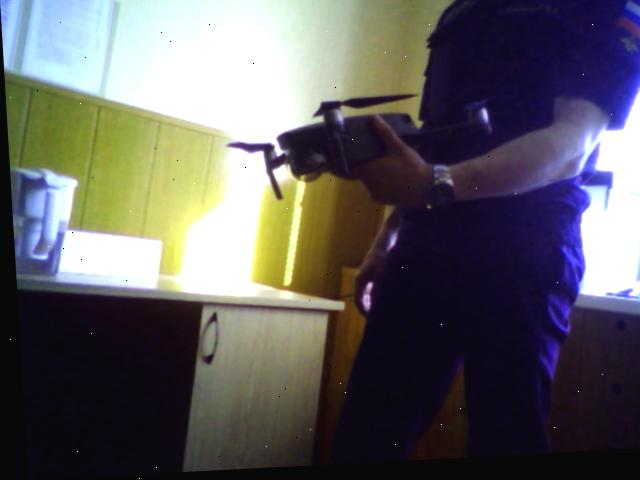drone: (224, 90, 529, 204)
